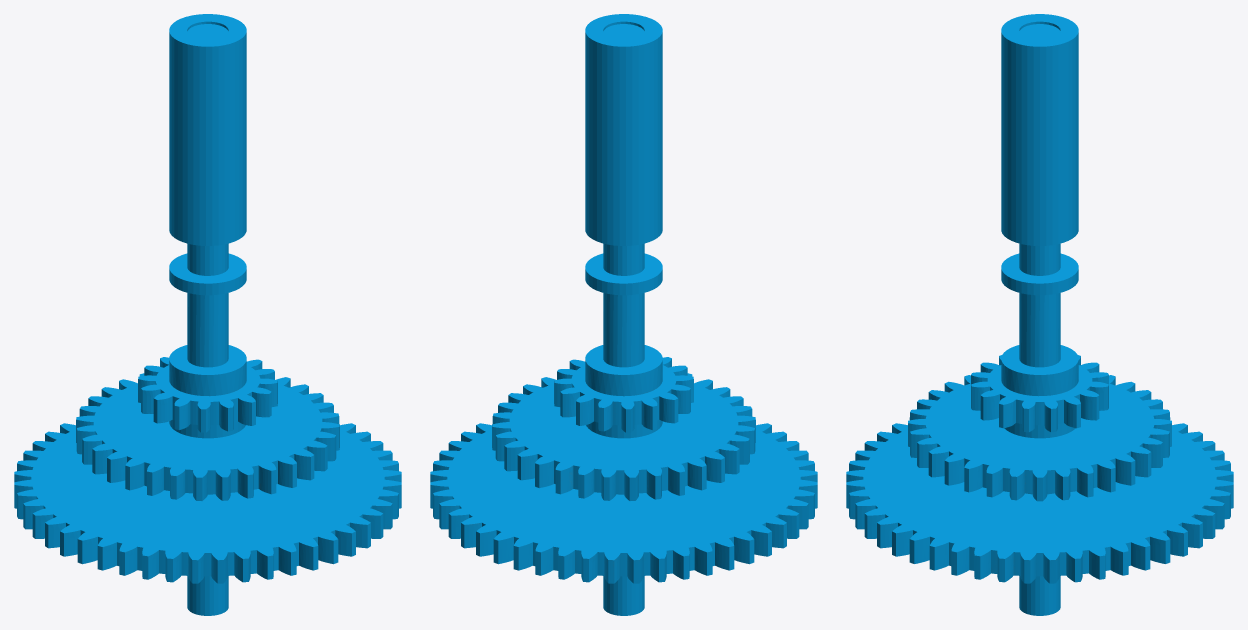
File: iin3speed.glb
The picture shows the model from 3 angles, left to right: view 1: azimuth 30°, elevation 25°; view 2: azimuth 150°, elevation 25°; view 3: azimuth 270°, elevation 25°; orthographic projection.
Visible parts, largest first — view 1: node_id3; view 2: node_id3; view 3: node_id3.
Boxes of the visible parts, <box> form: node_id3: <box>14,14,401,615</box>; node_id3: <box>430,14,817,615</box>; node_id3: <box>846,14,1233,615</box>.
Bounding box in the file's own units: 0.3118 × 0.512 × 0.3118.
1 material, 1 textured.
